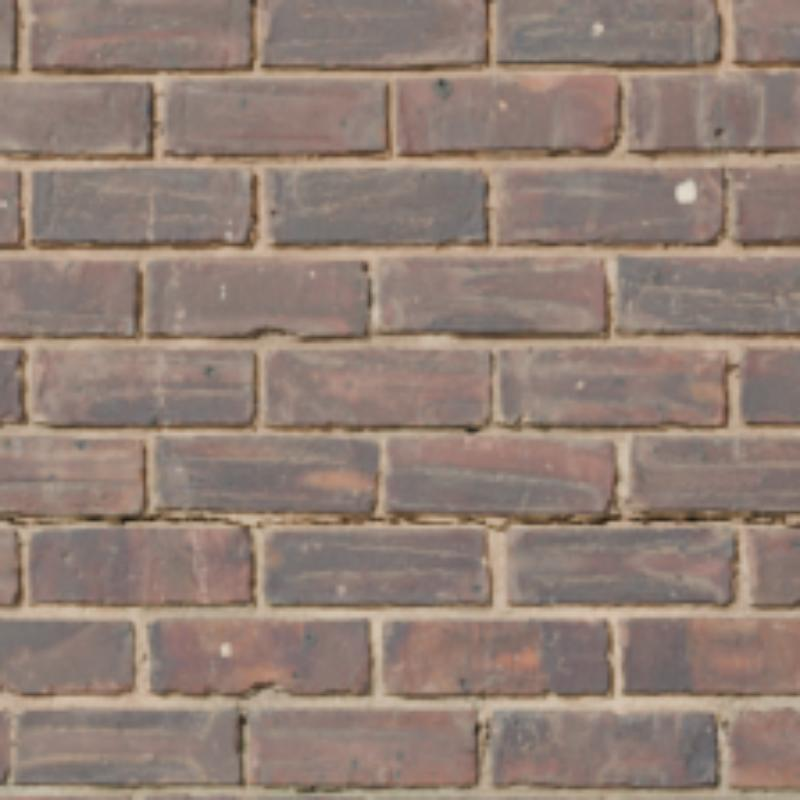crack: (444, 514, 796, 529), (116, 514, 254, 529), (0, 514, 61, 525), (254, 518, 306, 525), (353, 514, 410, 519), (306, 518, 353, 521)
